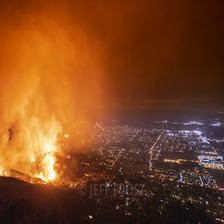fire: (5, 60, 76, 192)
